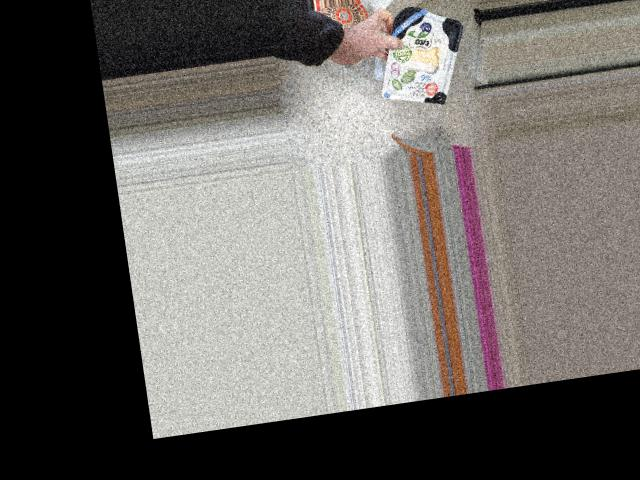cheese: (379, 5, 459, 109)
